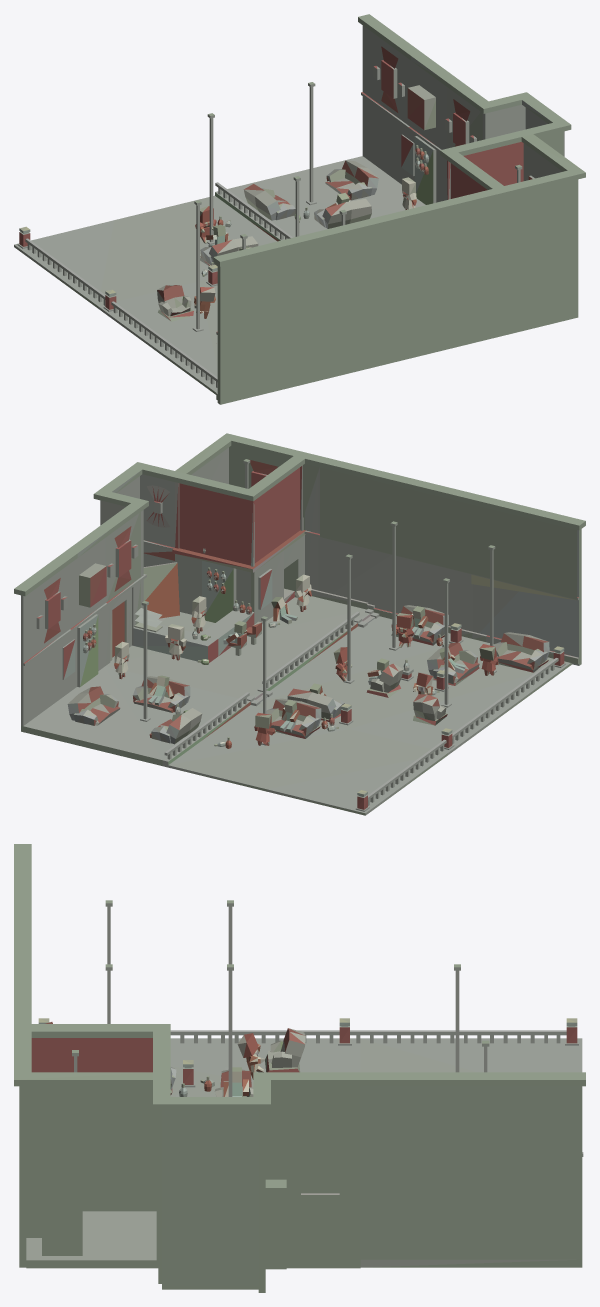
File: hospital-overview.glb
3 views of the same model, one above another, from view 1: azimuth 30°, elevation 25°; view 2: azimuth 150°, elevation 25°; view 3: azimuth 270°, elevation 25° (orthographic). The views are drawn at different scales.
Visible parts, largest first — view 1: Object_6, Object_1007, Object_599; view 2: Object_6, Object_1007, Object_282, Object_734, Object_581, Object_599; view 3: Object_6, Object_1007, Object_866.
Boxes of the visible parts, bbox=[...] form: Object_6: bbox=[14, 14, 585, 404]; Object_1007: bbox=[450, 142, 523, 198]; Object_599: bbox=[201, 145, 428, 276]; Object_6: bbox=[14, 433, 585, 815]; Object_1007: bbox=[179, 467, 299, 565]; Object_282: bbox=[148, 597, 465, 732]; Object_734: bbox=[114, 574, 311, 679]; Object_581: bbox=[254, 613, 498, 745]; Object_599: bbox=[83, 548, 449, 748]; Object_6: bbox=[14, 844, 585, 1292]; Object_1007: bbox=[31, 1038, 152, 1072]; Object_866: bbox=[237, 1033, 264, 1079].
Bounding box in the file's own units: 21.88 × 7.5 × 20.31.
